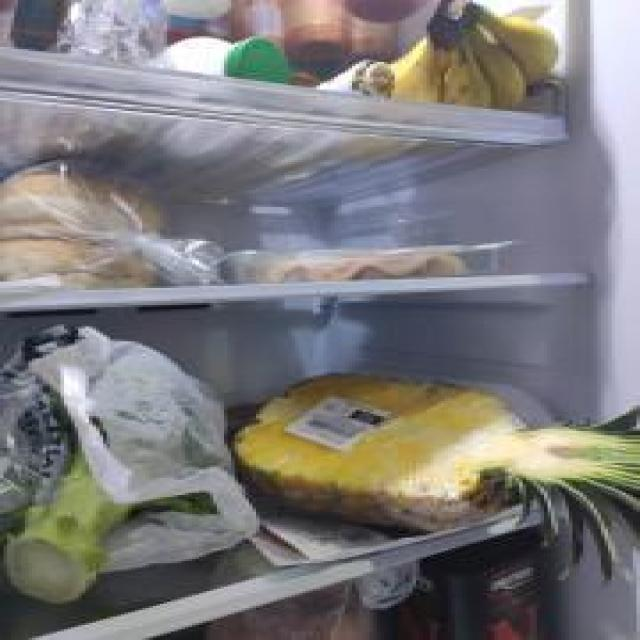banana: (469, 0, 558, 85), (464, 0, 528, 113), (387, 0, 441, 105), (452, 2, 491, 111)
broccoli: (0, 322, 260, 604)
milk: (144, 38, 293, 86)
pineapple: (227, 371, 640, 588)
